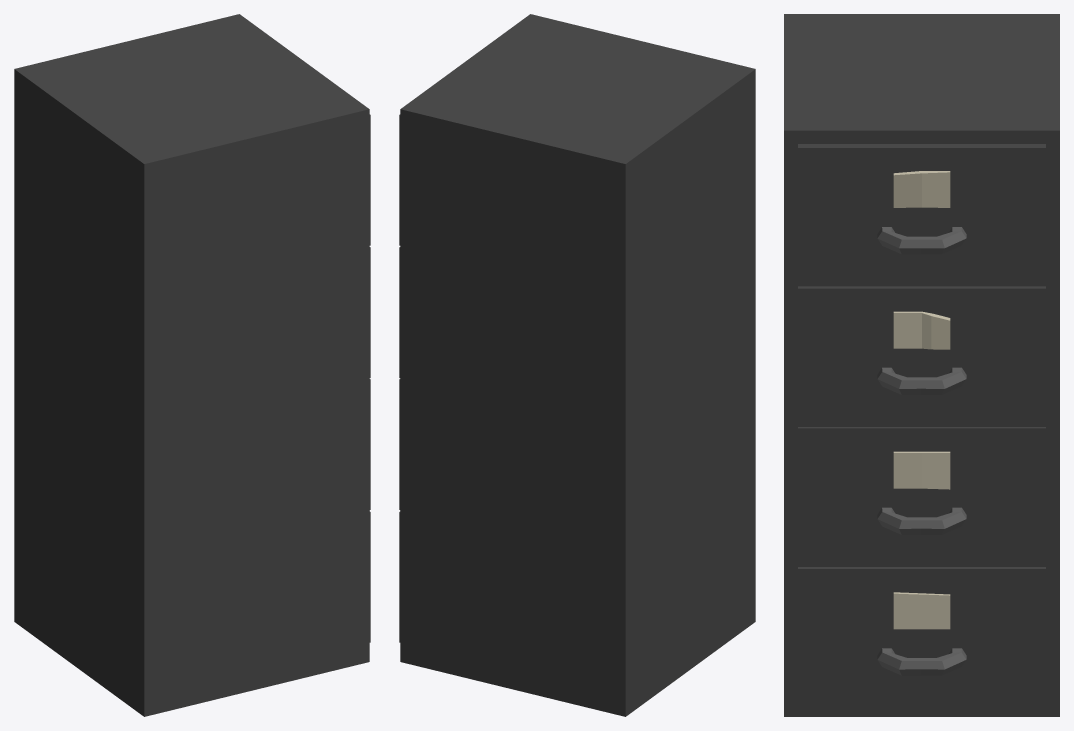
Rendered from filing_cabinet.glb.
The picture shows the model from 3 angles, left to right: view 1: azimuth 30°, elevation 25°; view 2: azimuth 150°, elevation 25°; view 3: azimuth 270°, elevation 25°; orthographic projection. The views are drawn at different scales.
Parts seen in each view (by area): view 1: Main_; view 2: Main_; view 3: Main_, Draw, Draw.001, Draw.003, Draw.002.
Part boxes in pixels (<box>): Main_: <box>14,14,369,716</box>; Main_: <box>400,14,755,716</box>; Main_: <box>784,14,1059,716</box>; Draw: <box>798,144,1045,286</box>; Draw.001: <box>798,286,1045,426</box>; Draw.003: <box>798,567,1045,707</box>; Draw.002: <box>798,427,1045,566</box>.
Bounding box in the file's own units: 0.7604 × 1.55 × 0.6593.
